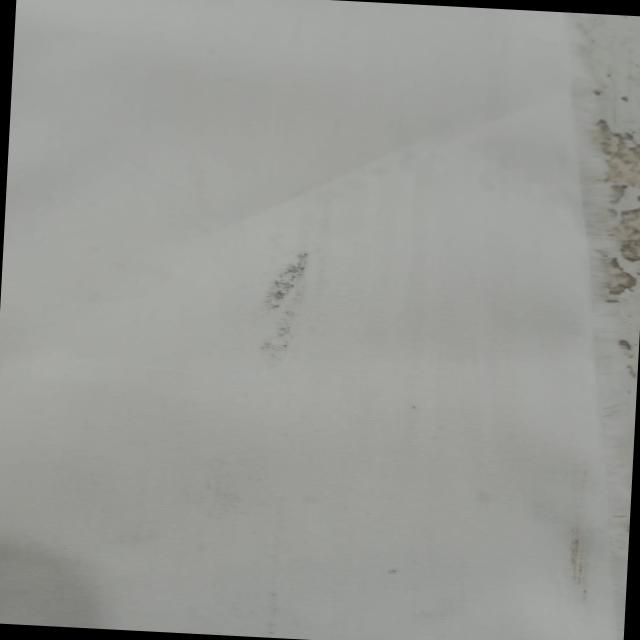stain: (245, 244, 322, 364)
